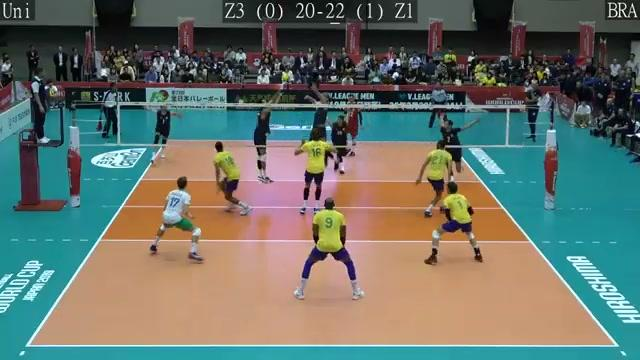ball: (279, 69, 291, 84)
